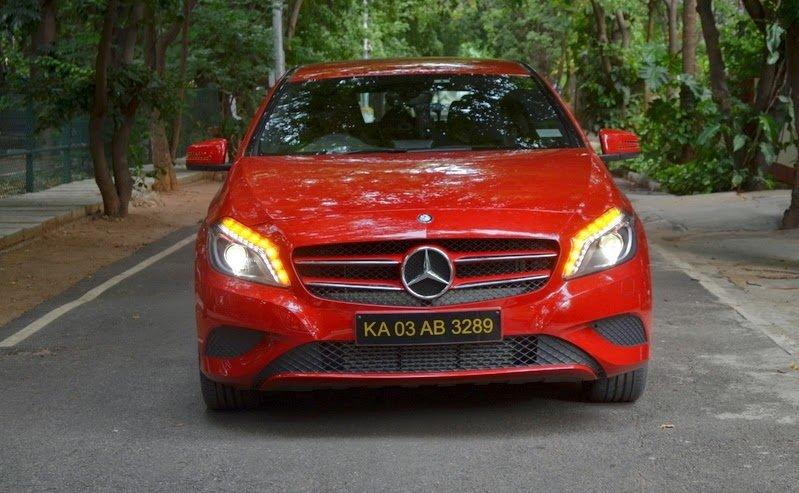Liscence Plate: (358, 308, 508, 349)
